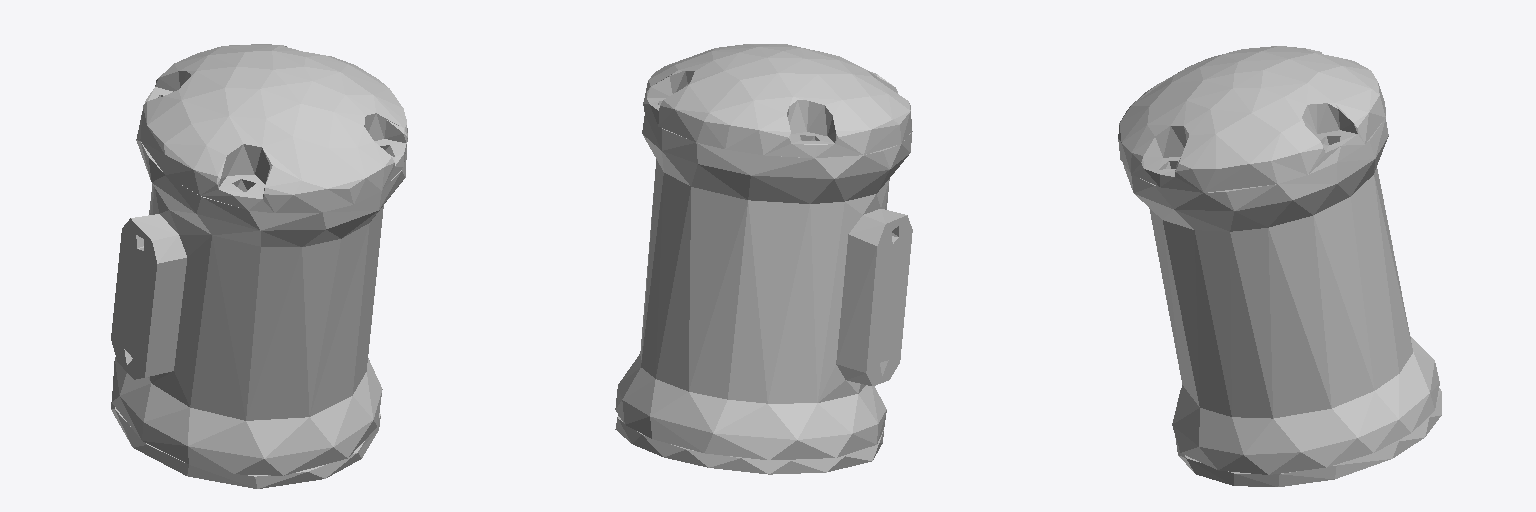
File: light_left_up.obj
3 renders of one model, left to right at view 1: azimuth 30°, elevation 25°; view 2: azimuth 150°, elevation 25°; view 3: azimuth 270°, elevation 25°, orthographic.
Visible parts, largest first — view 1: light_left_up; view 2: light_left_up; view 3: light_left_up.
Boxes of the visible parts, x1,y1,x2,y2 form: light_left_up: [111, 44, 407, 488]; light_left_up: [615, 44, 912, 474]; light_left_up: [1118, 46, 1441, 486].
Size of the model in its own units: 0.0387 by 0.0577 by 0.0445.